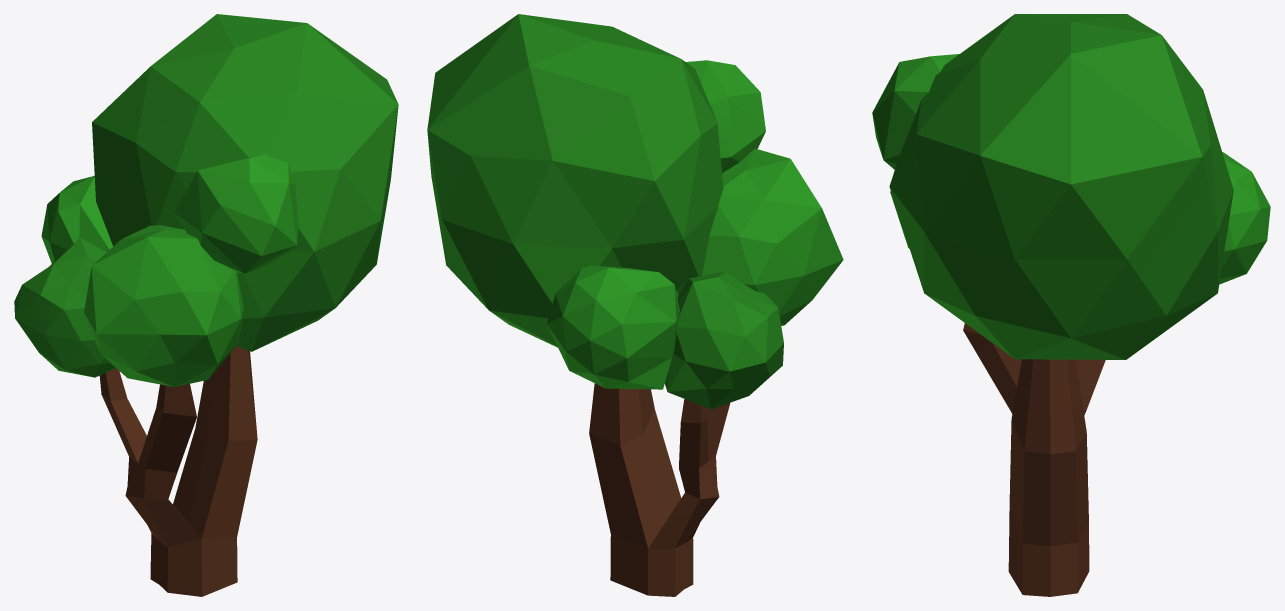
File: Tree2_v.1.5.fbx
3 views of the same model, side by side, from view 1: azimuth 30°, elevation 25°; view 2: azimuth 150°, elevation 25°; view 3: azimuth 270°, elevation 25° (orthographic). The views are drawn at different scales.
Visible parts, largest first — view 1: Cube.001; view 2: Cube.001; view 3: Cube.001.
Part boxes in pixels (x1,y1,x2,y2): Cube.001: [14, 14, 398, 596]; Cube.001: [427, 14, 843, 596]; Cube.001: [872, 14, 1270, 596].
Bounding box in the file's own units: 1107 × 1599 × 976.
